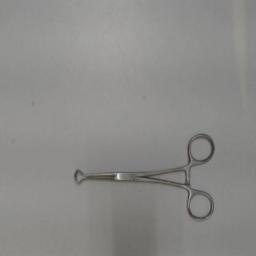Babcock Tissue Forceps: (71, 130, 217, 224)
